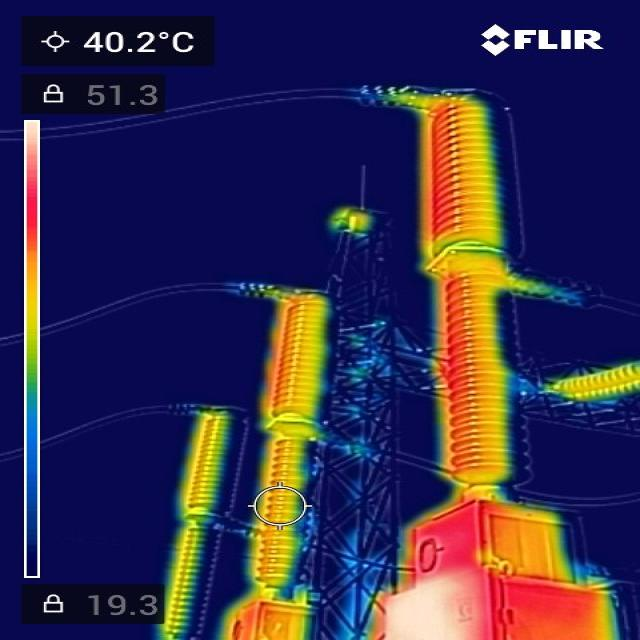Zona_Atenco: (428, 103, 484, 473), (497, 575, 594, 639), (486, 506, 567, 579)
Zona_Critica: (407, 506, 483, 572)
Zona_Extrema: (388, 579, 467, 638)
